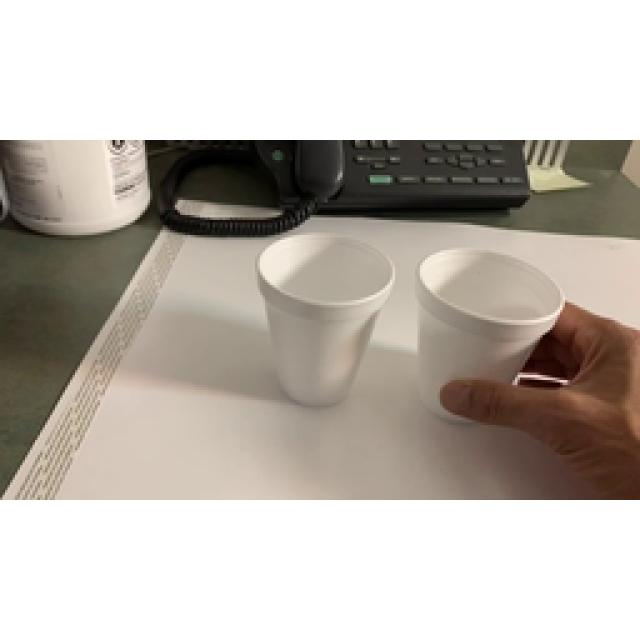styrofoam: (415, 248, 562, 418), (258, 232, 392, 402)
